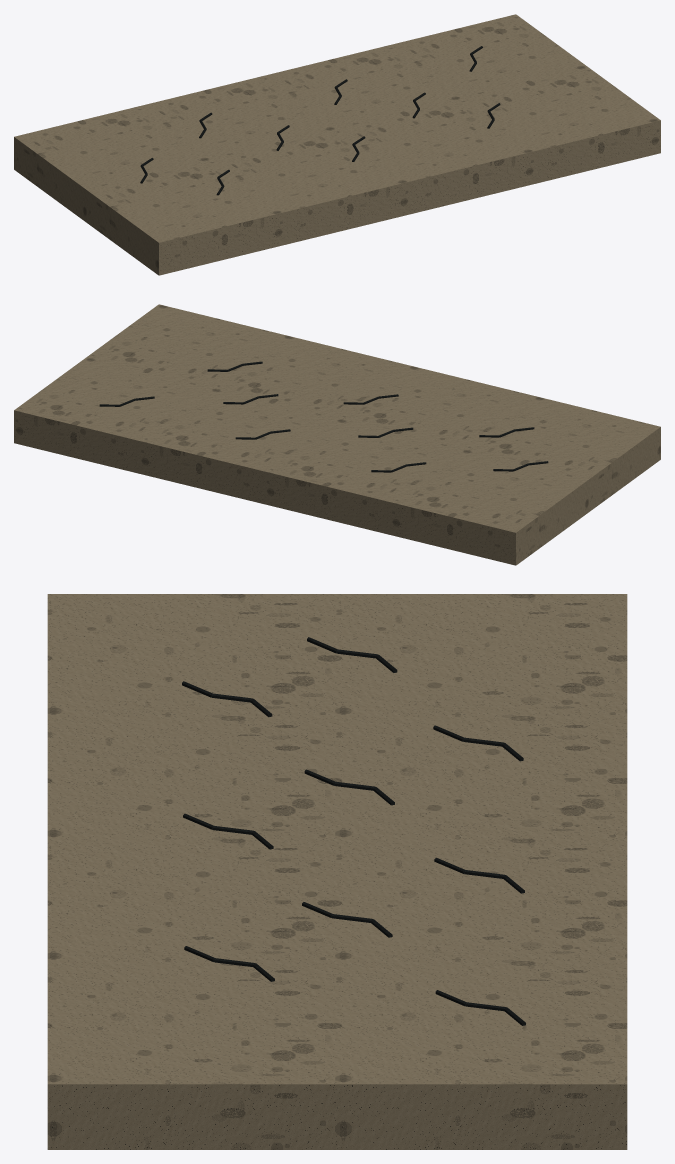
The model's file is concrete_partition-light.obj.
3 renders of one model, top to bottom at view 1: azimuth 30°, elevation 25°; view 2: azimuth 150°, elevation 25°; view 3: azimuth 270°, elevation 25°, orthographic. The views are drawn at different scales.
Visible parts, largest first — view 1: concrete_partition.Light; view 2: concrete_partition.Light; view 3: concrete_partition.Light.
Boxes of the visible parts, box(x1,y1,x2,y2) form: concrete_partition.Light: box(14, 14, 660, 275); concrete_partition.Light: box(14, 304, 660, 565); concrete_partition.Light: box(47, 594, 627, 1149).
Size of the model in its own units: 16 by 1.11 by 8.
Materials: 2 (2 with a texture image).
